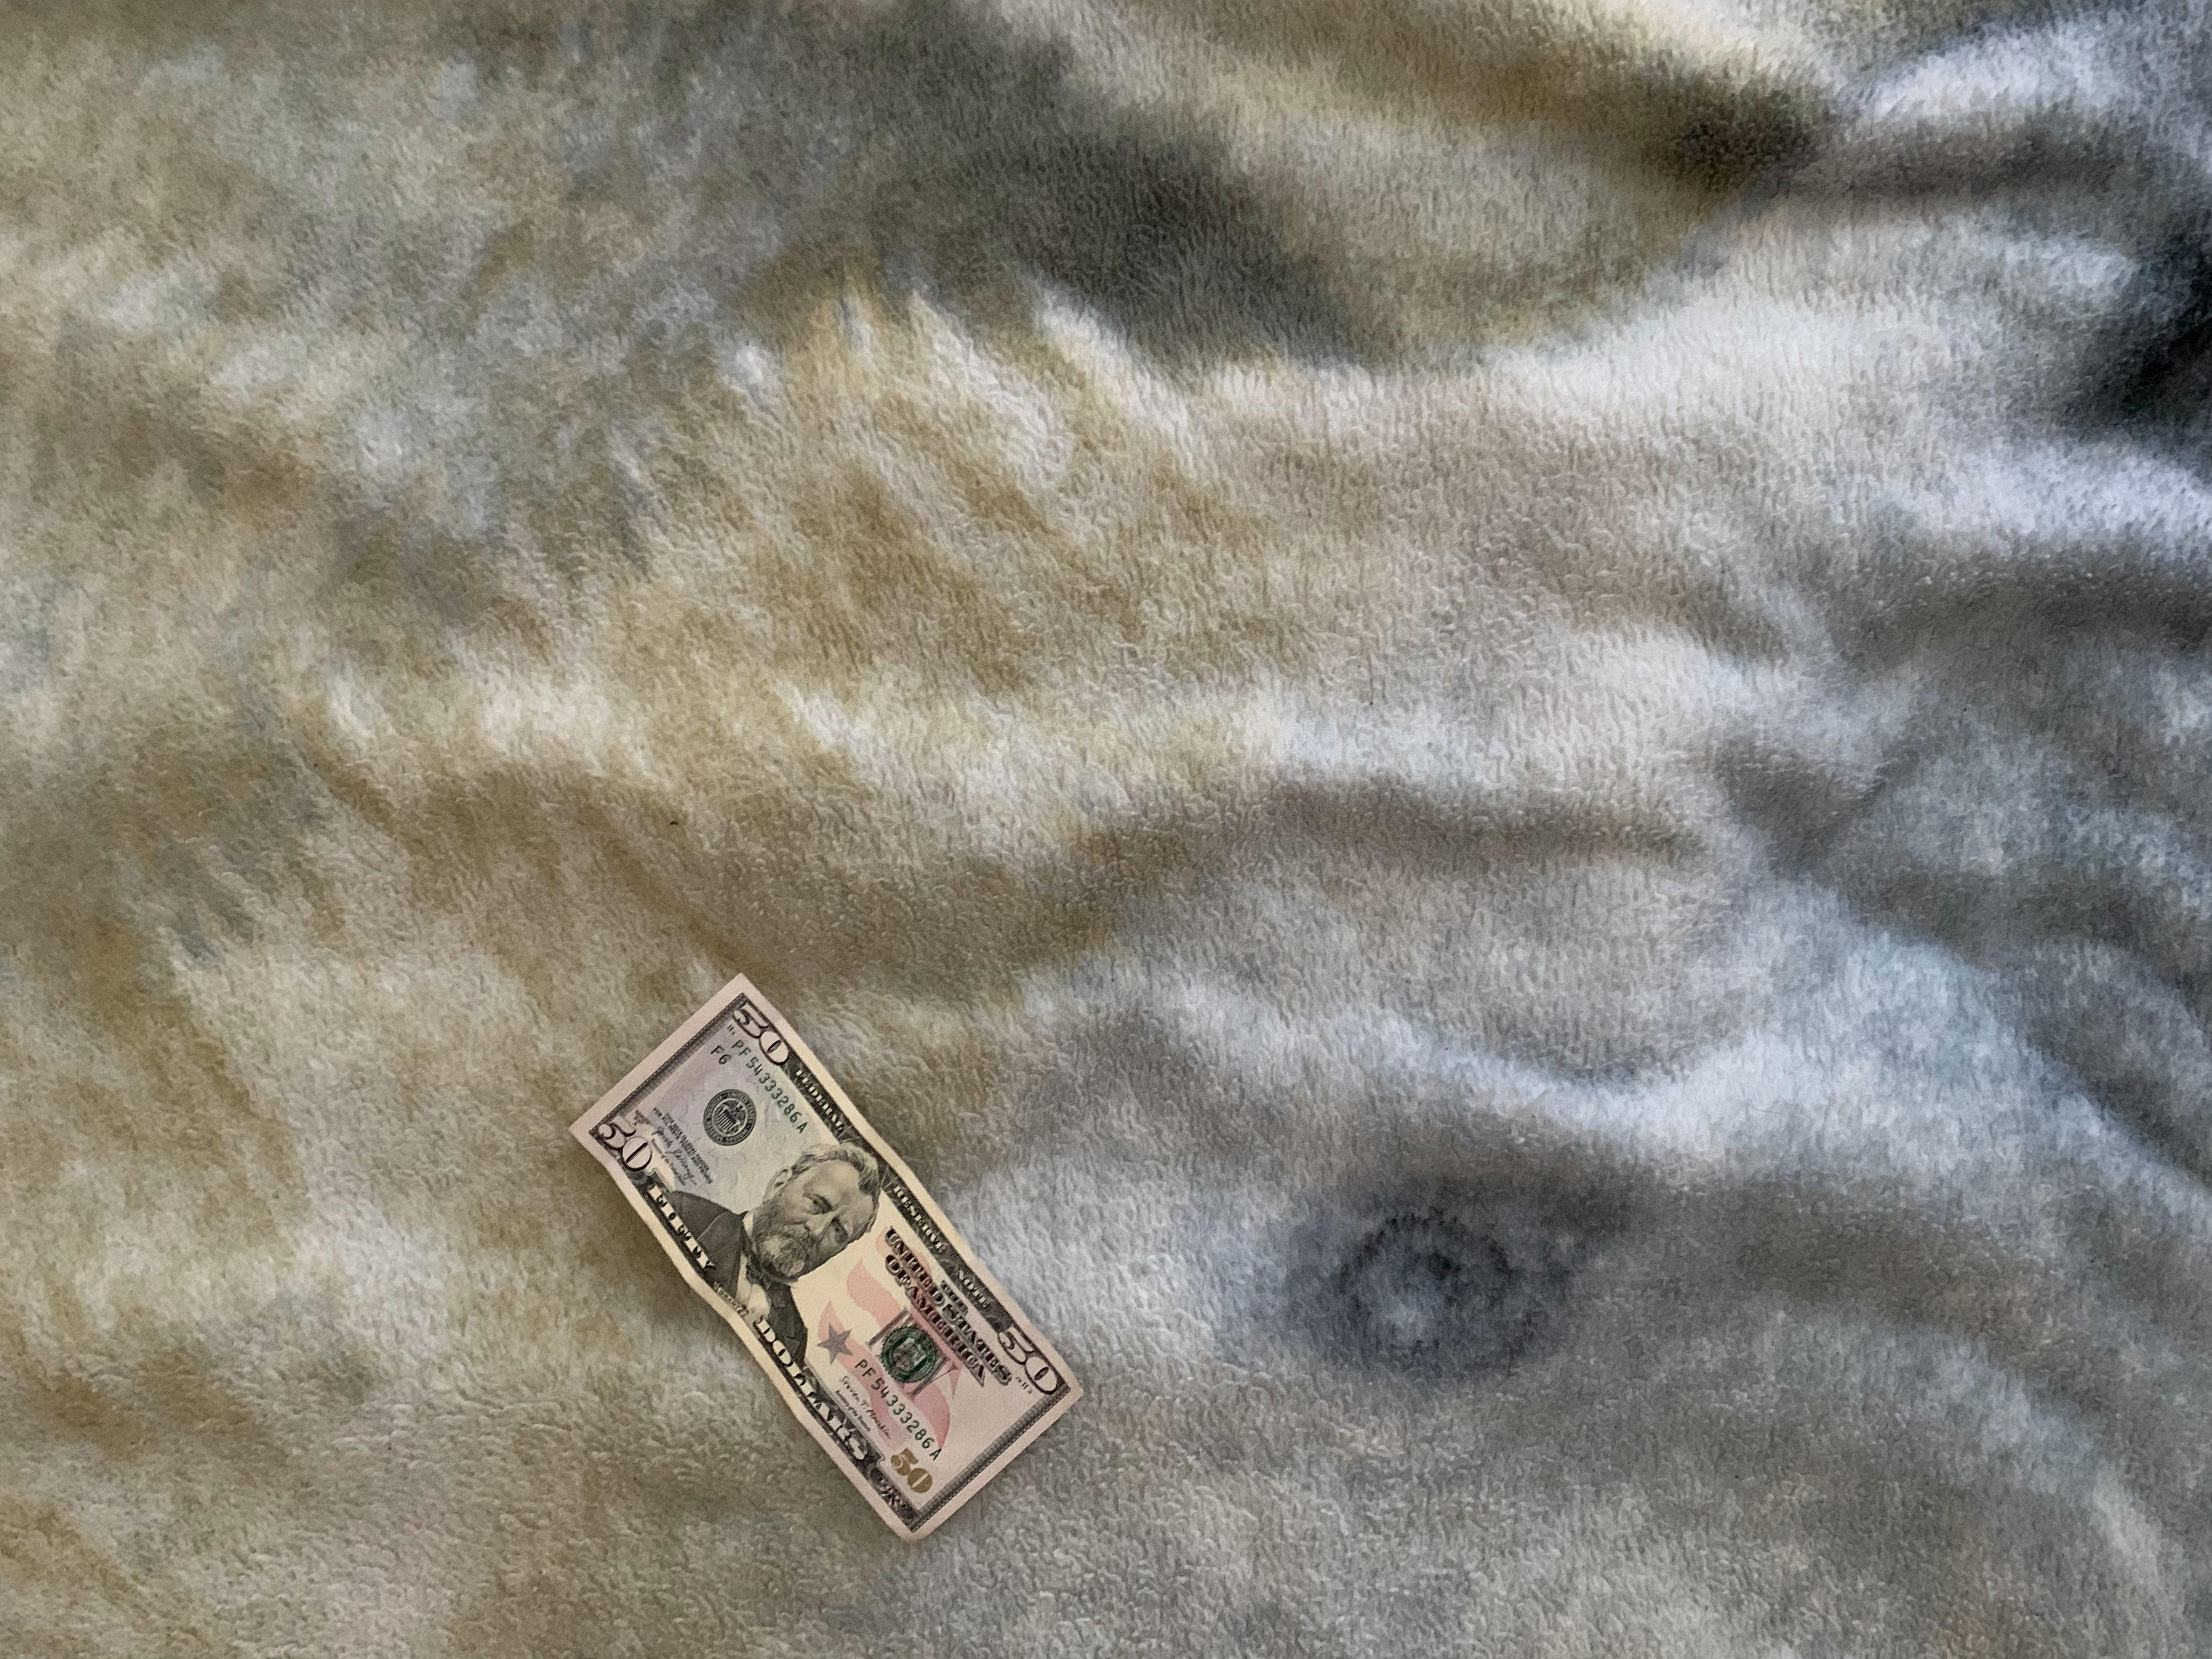FiftyBill: (561, 972, 1087, 1544)
